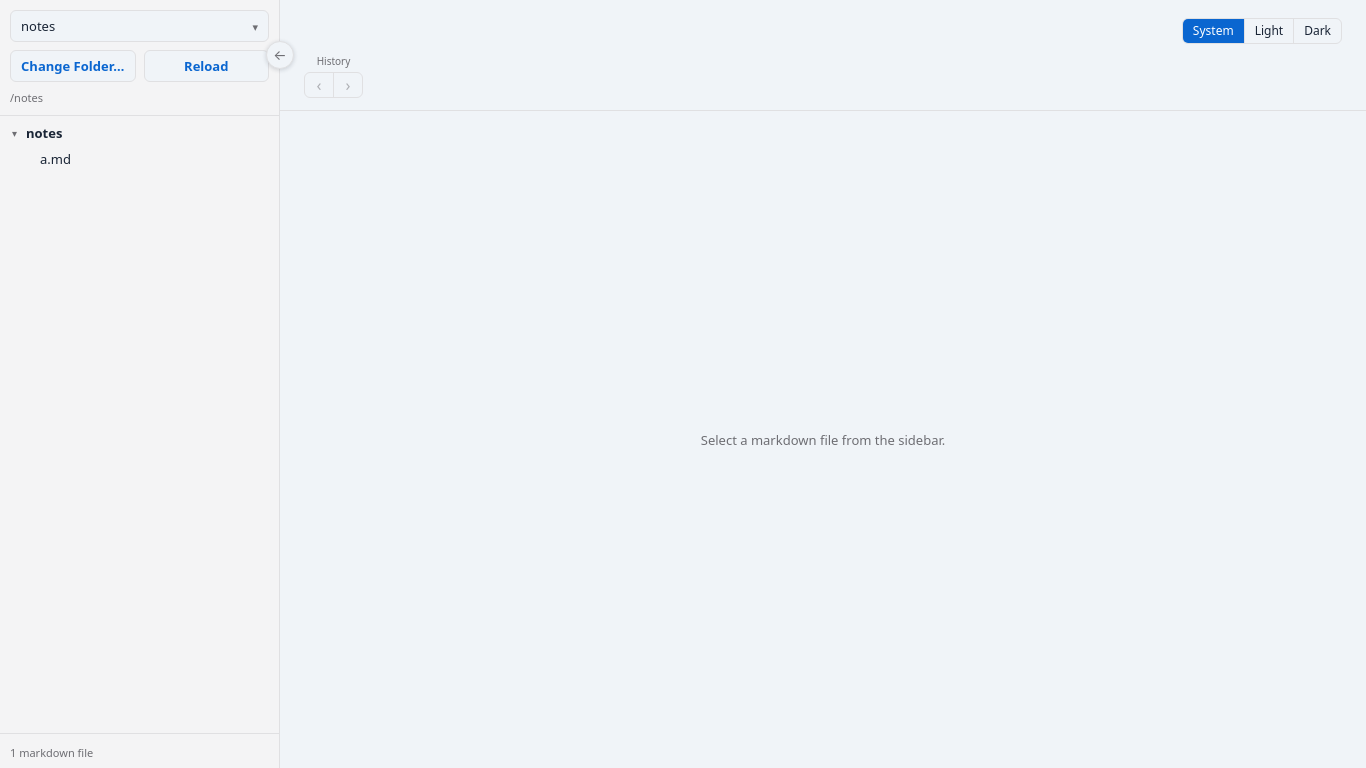
stores a fresh bookmark when the chosen one is stale
Click the button with aria-label "Recent folders".
click(140, 26)  # box [10,10,269,42]
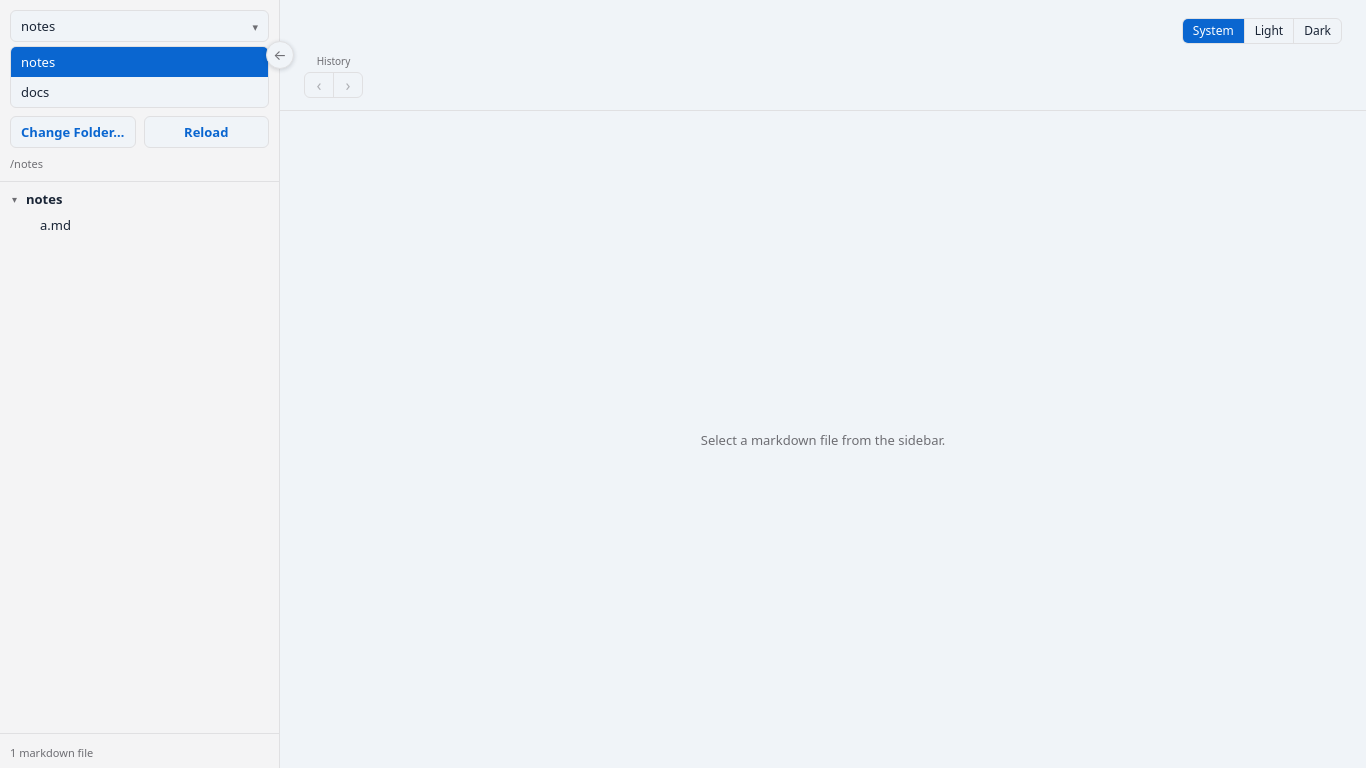
Click the menu item with aria-label "/docs".
click(140, 92)  # box [11,77,268,107]
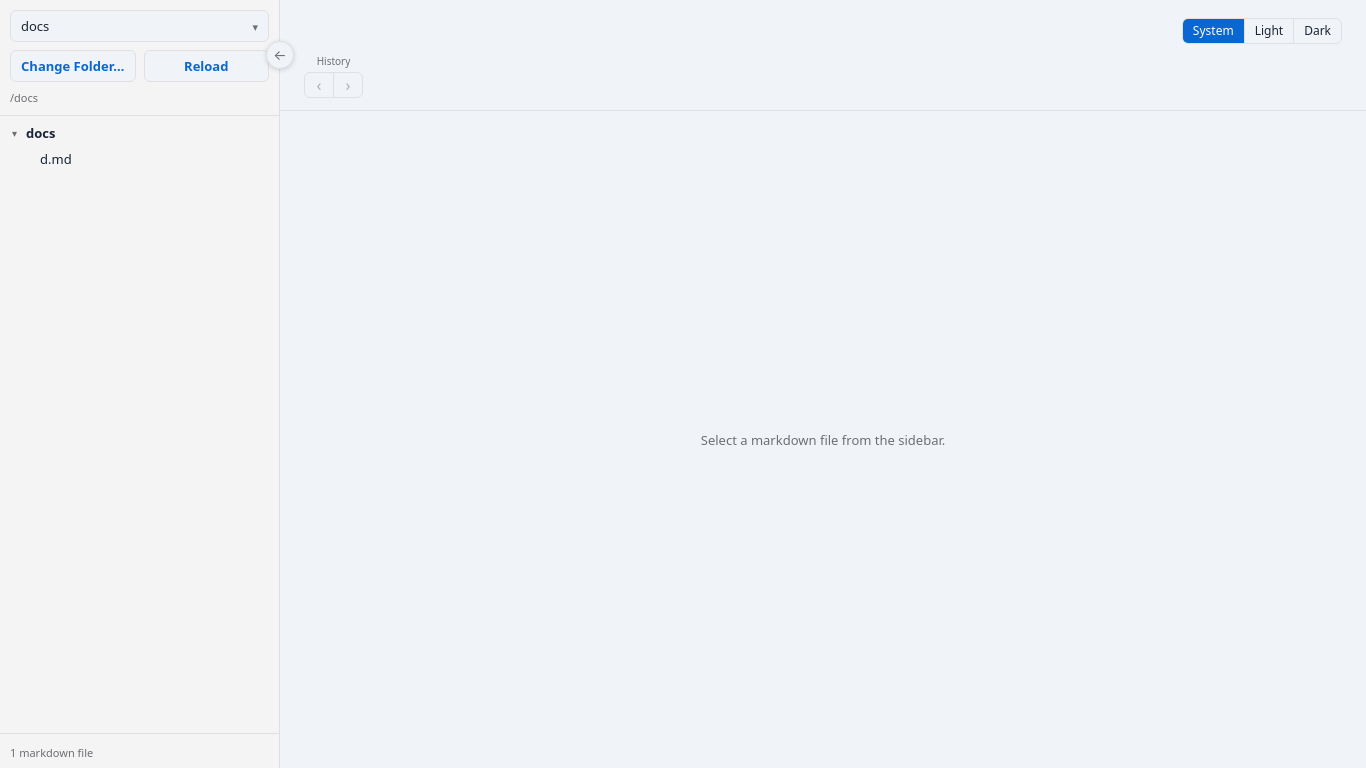
Check: the list item "d.md" is shown, box [4,146,275,172]
